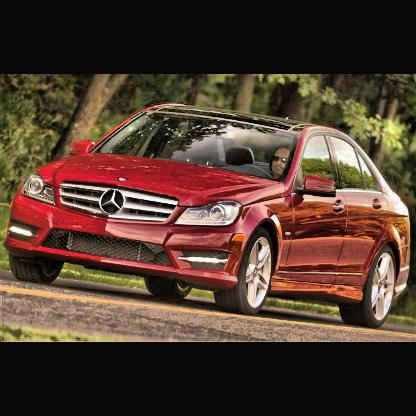Mercedes-Benz C-Class Sedan 2012: (6, 102, 413, 328)
